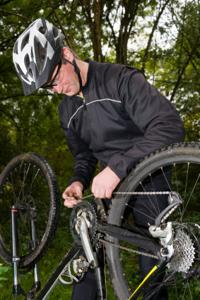person: (11, 14, 188, 300)
